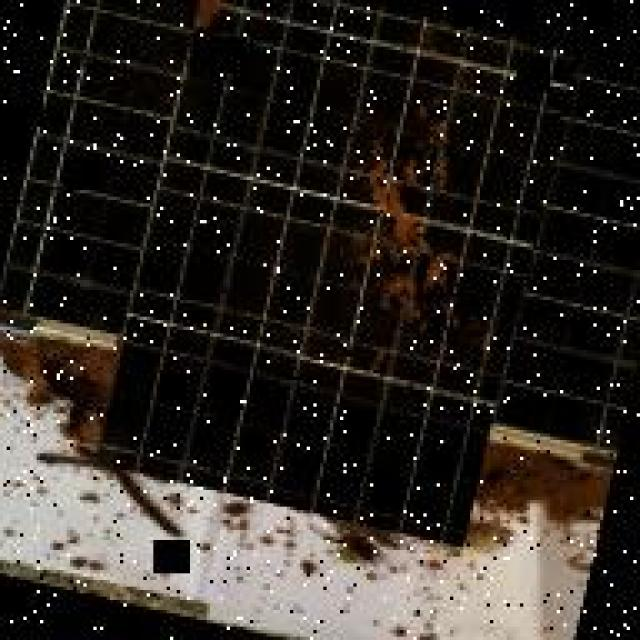dust-solar-panel: (1, 0, 640, 539)
